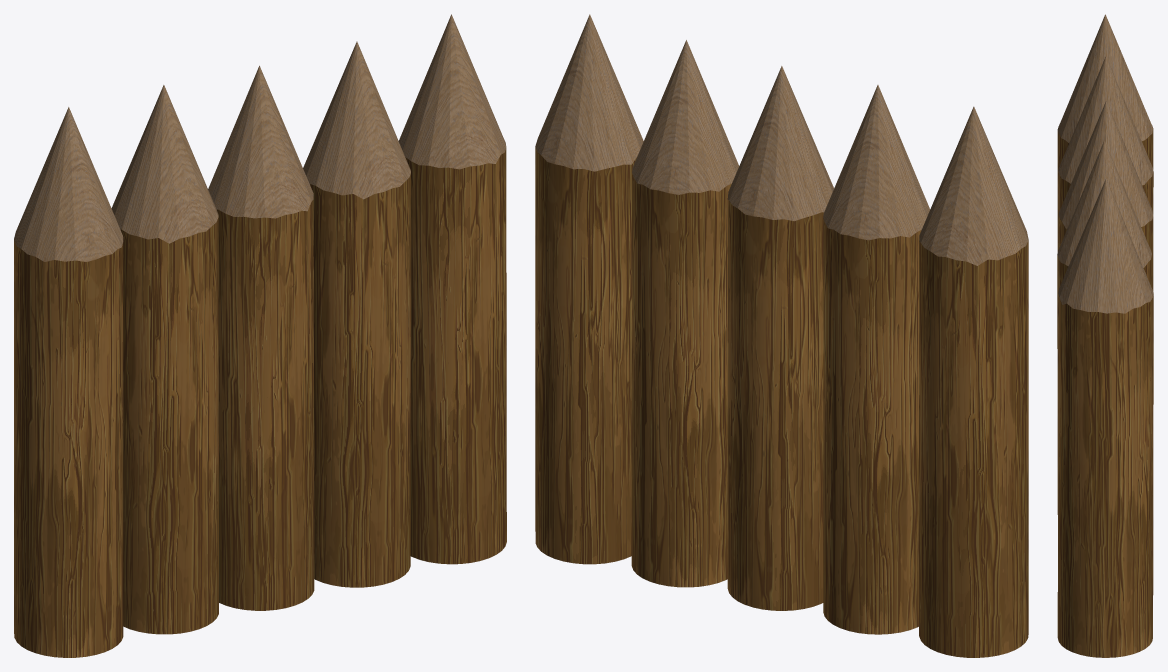
Rendered from LogWall.fbx.
The picture shows the model from 3 angles, left to right: view 1: azimuth 30°, elevation 25°; view 2: azimuth 150°, elevation 25°; view 3: azimuth 270°, elevation 25°; orthographic projection. The views are drawn at different scales.
Visible parts, largest first — view 1: Cylinder; view 2: Cylinder; view 3: Cylinder.
Part boxes in pixels (<box>): Cylinder: <box>14,14,506,657</box>; Cylinder: <box>535,14,1028,657</box>; Cylinder: <box>1057,14,1153,657</box>.
Bounding box in the file's own units: 1260 × 1330 × 252.
